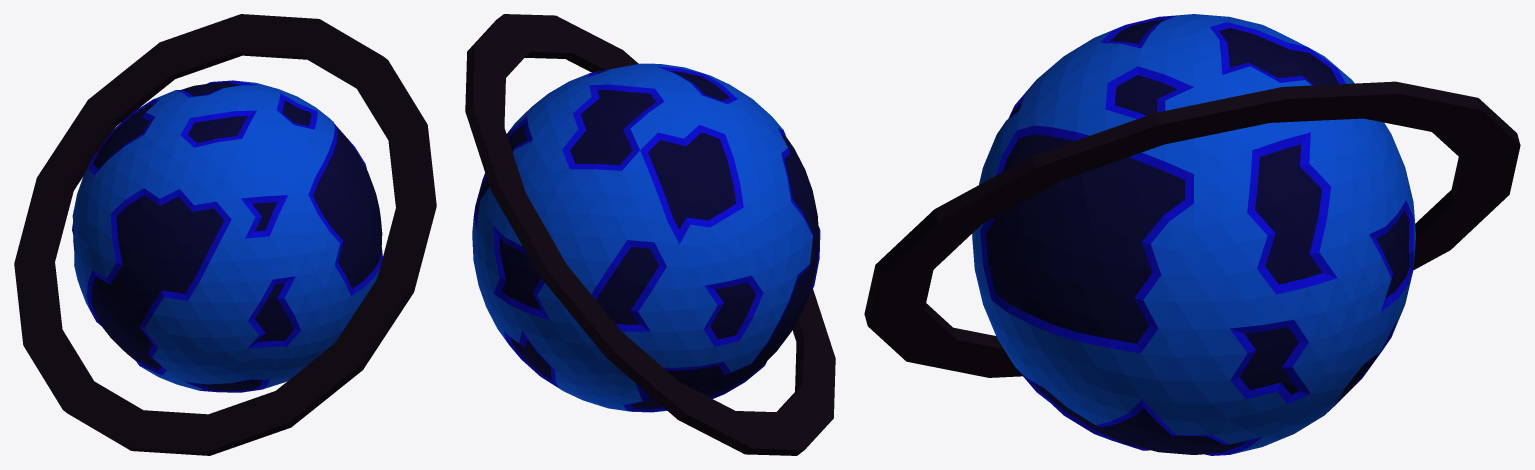
Rendered from Keminth.obj.
The picture shows the model from 3 angles, left to right: view 1: azimuth 30°, elevation 25°; view 2: azimuth 150°, elevation 25°; view 3: azimuth 270°, elevation 25°; orthographic projection. The views are drawn at different scales.
Visible parts, largest first — view 1: Icosphere; view 2: Icosphere; view 3: Icosphere.
Boxes of the visible parts, x1,y1,x2,y2 form: Icosphere: (14, 14, 436, 455); Icosphere: (465, 14, 835, 455); Icosphere: (864, 14, 1520, 455).
Size of the model in its own units: 47.64 by 49.06 by 63.46.
